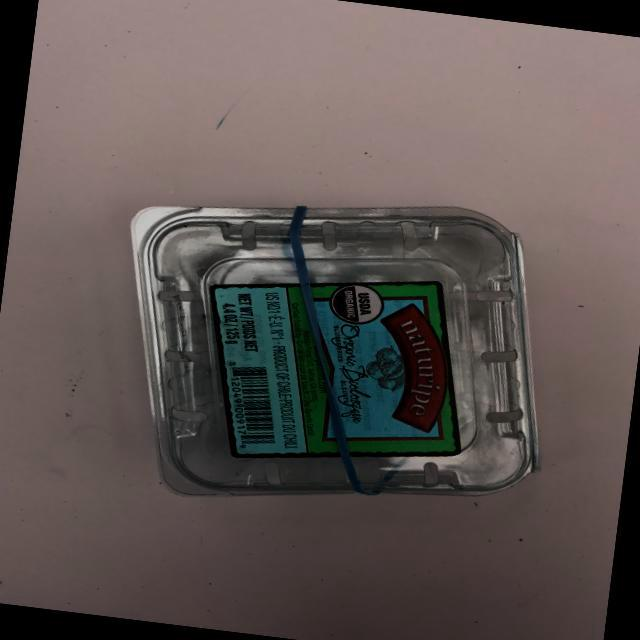plastic: (75, 150, 575, 546)
